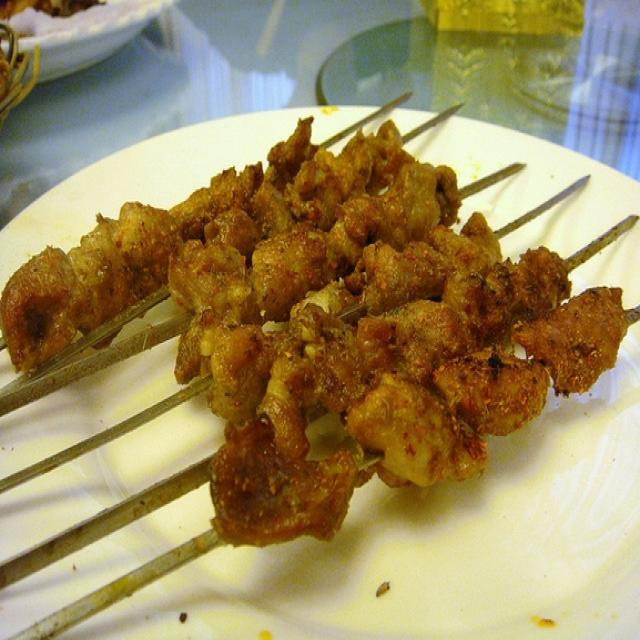烧串烤肉: (11, 111, 631, 570)
